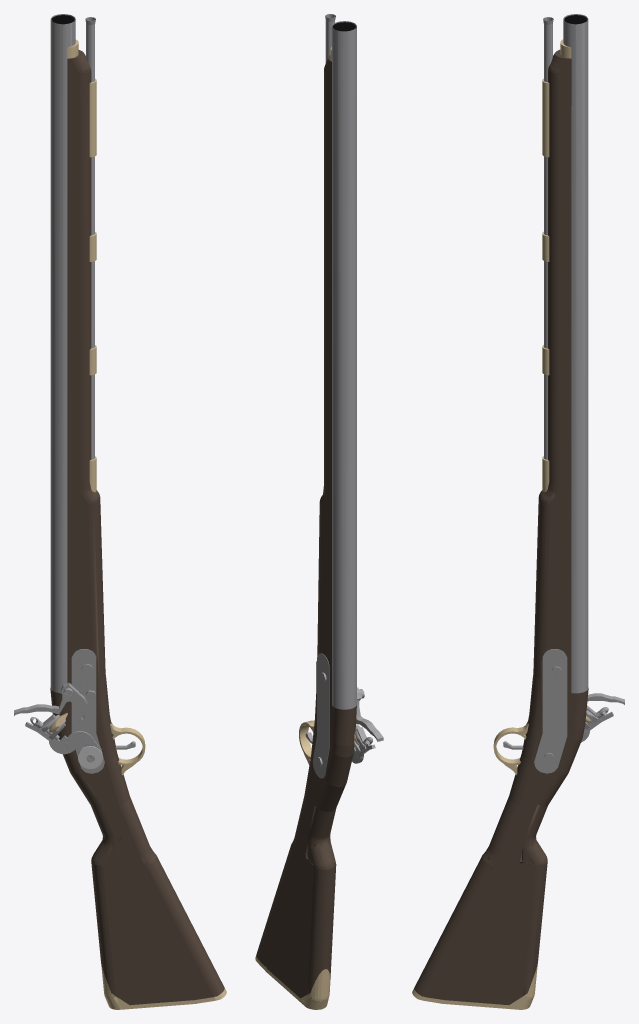
The model's file is rab-musket.glb.
3 views of the same model, side by side, from view 1: azimuth 90°, elevation 25°; view 2: azimuth 210°, elevation 25°; view 3: azimuth 270°, elevation 25° (orthographic).
Visible parts, largest first — view 1: rab-musket; view 2: rab-musket; view 3: rab-musket.
Part boxes in pixels (left/top/right/bottom): rab-musket: left=14, top=14, right=226, bottom=1009; rab-musket: left=255, top=14, right=383, bottom=1009; rab-musket: left=412, top=14, right=624, bottom=1009.
Size of the model in its own units: 0.0543 by 1.58 by 0.3088.
